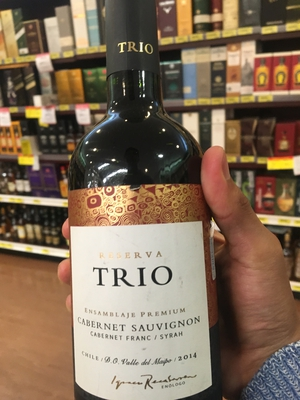trio cabernet sauvignon: (66, 9, 226, 400)
